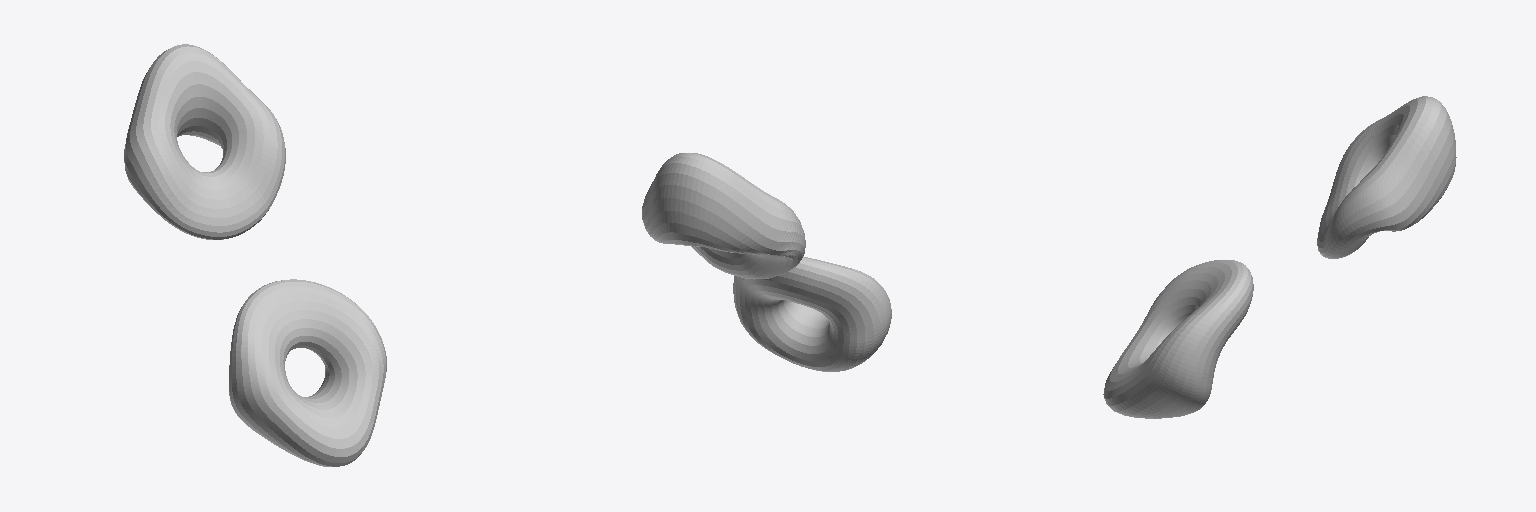
The model's file is (3)sex(r).obj.
3 renders of one model, left to right at view 1: azimuth 30°, elevation 25°; view 2: azimuth 150°, elevation 25°; view 3: azimuth 270°, elevation 25°, orthographic.
Parts seen in each view (by area): view 1: red_Cylinder.009; view 2: red_Cylinder.009; view 3: red_Cylinder.009.
Boxes of the visible parts, box(x1,y1,x2,y2) form: red_Cylinder.009: box(124, 44, 386, 466); red_Cylinder.009: box(642, 153, 891, 371); red_Cylinder.009: box(1103, 96, 1456, 418).
Bounding box in the file's own units: 0.4755 × 0.9036 × 0.9294.